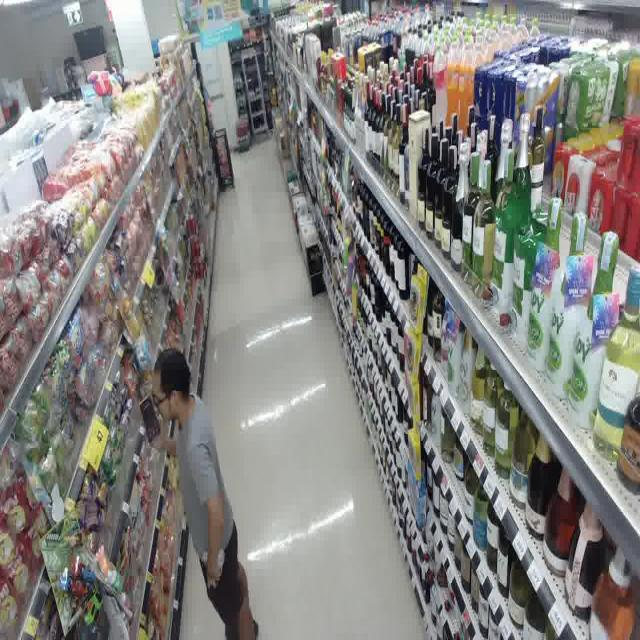shoplifting: (128, 336, 278, 640)
